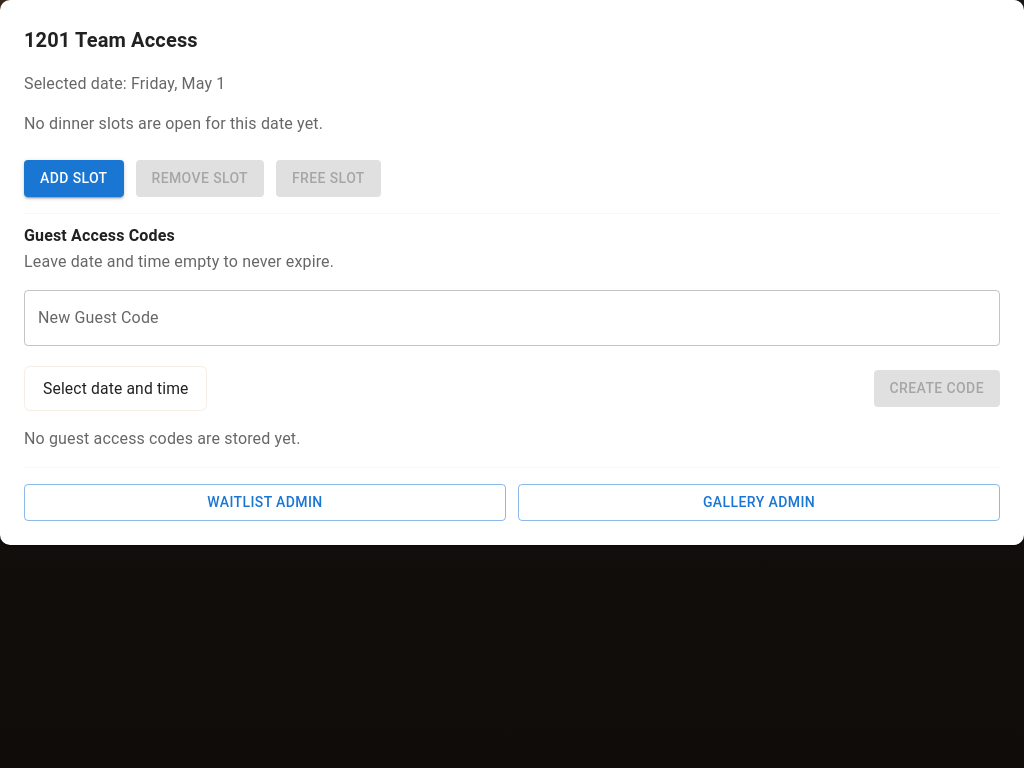
Test case: StaffControlsCard – Add Slot dialog › opens the Set Dinner Time dialog when Add Slot is clicked
The width and height of the screenshot is (1024, 768).
Click the button "Add Slot" at (74, 178), box [24,160,124,196]
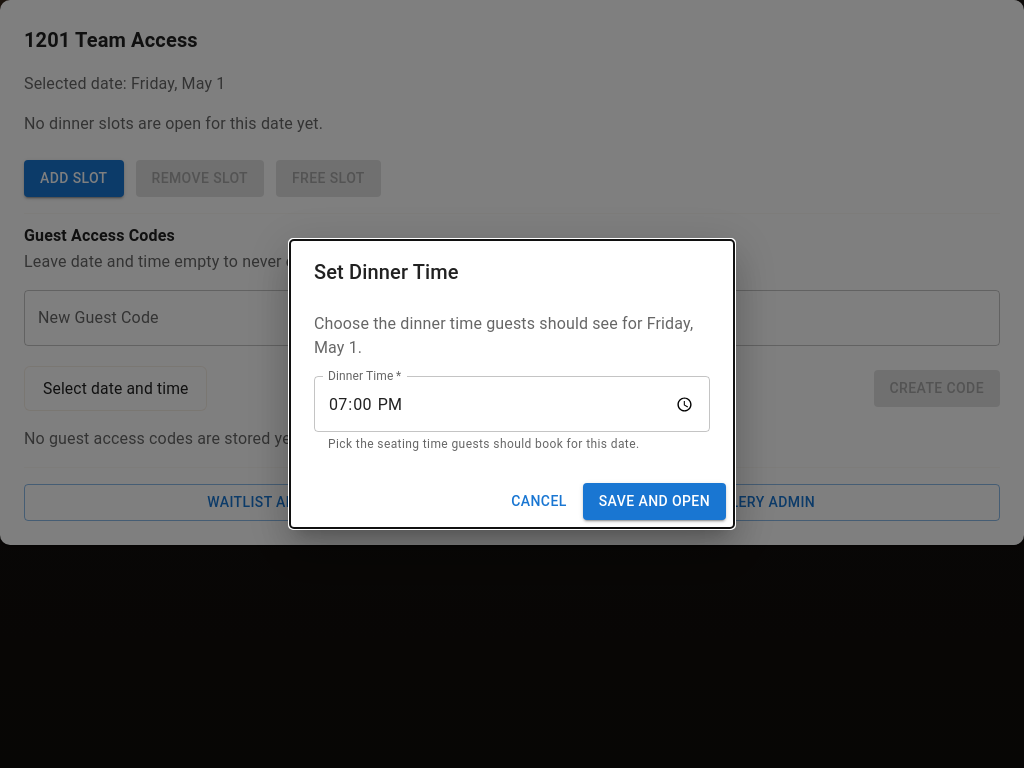
expect the dialog "Set Dinner Time" is shown: met, box [290,240,734,528]
